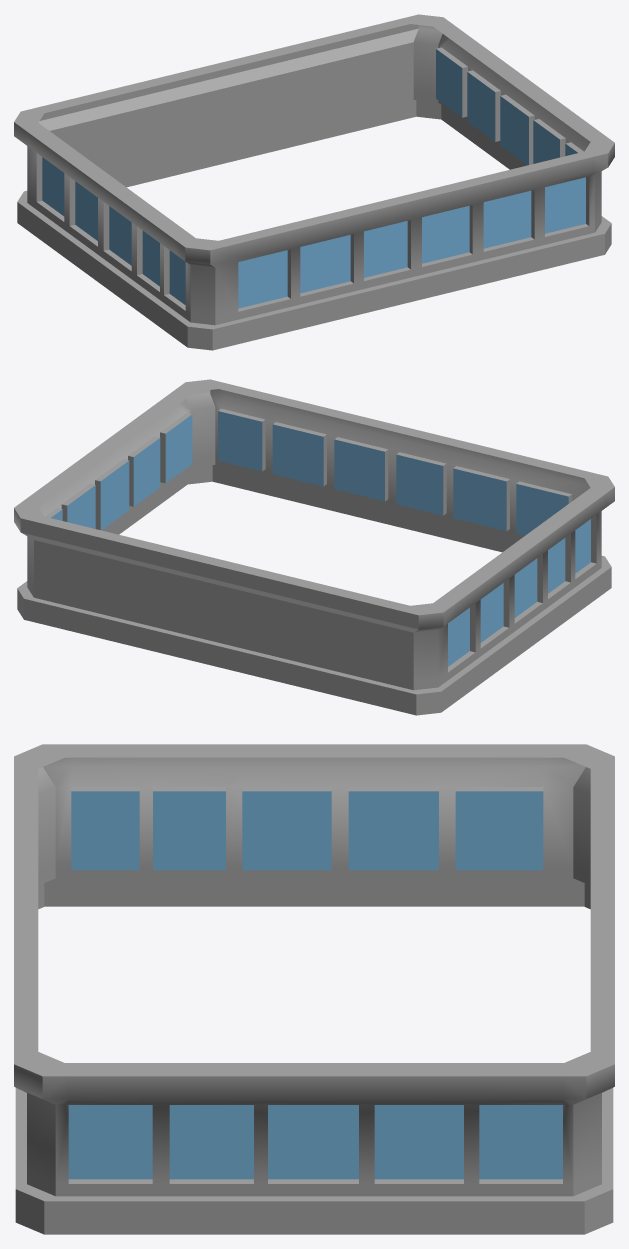
The model's file is Floor_2.fbx.
The picture shows the model from 3 angles, top to bottom: view 1: azimuth 30°, elevation 25°; view 2: azimuth 150°, elevation 25°; view 3: azimuth 270°, elevation 25°; orthographic projection. The views are drawn at different scales.
Parts seen in each view (by area): view 1: Floor_2, Windows; view 2: Floor_2, Windows; view 3: Floor_2, Windows.
Boxes of the visible parts, x1,y1,x2,y2 form: Floor_2: [14, 14, 614, 350]; Windows: [42, 49, 585, 308]; Floor_2: [14, 379, 614, 715]; Windows: [51, 411, 590, 666]; Floor_2: [14, 744, 614, 1234]; Windows: [68, 791, 562, 1179].
Size of the model in its own units: 1776 by 400 by 1358.
